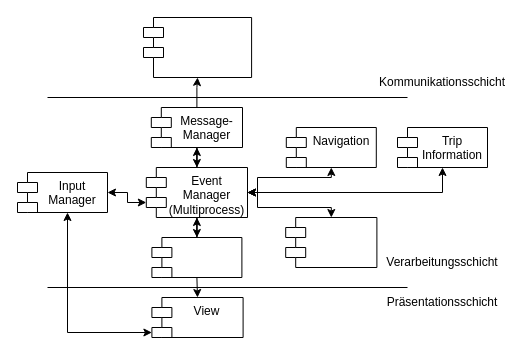
The diagram is 525 pixels wide and 359 high, and some of its shapes have lost their labels. Each missing label, with the centre of its shape:
"Air-conditioning Control" belongs at point (331, 242).
"CAN-Transceiver (Arduino c++)" belongs at point (197, 47).
"View Controller" belongs at point (196, 257).
